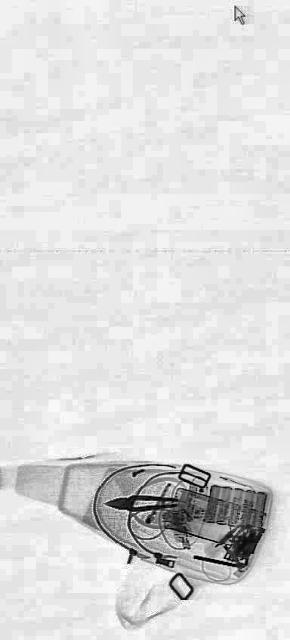Scissors: (106, 474, 184, 532)
